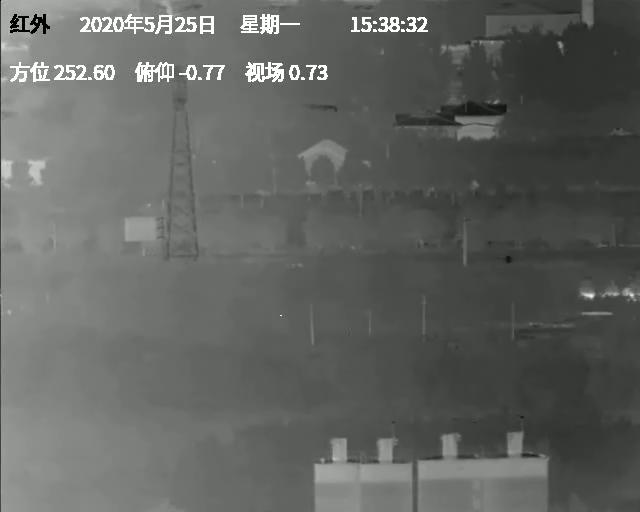uav: (350, 244, 358, 252)
